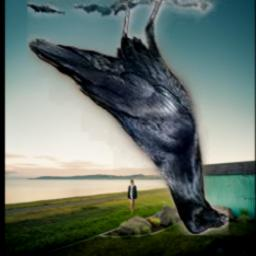Crow: (27, 0, 229, 235)
